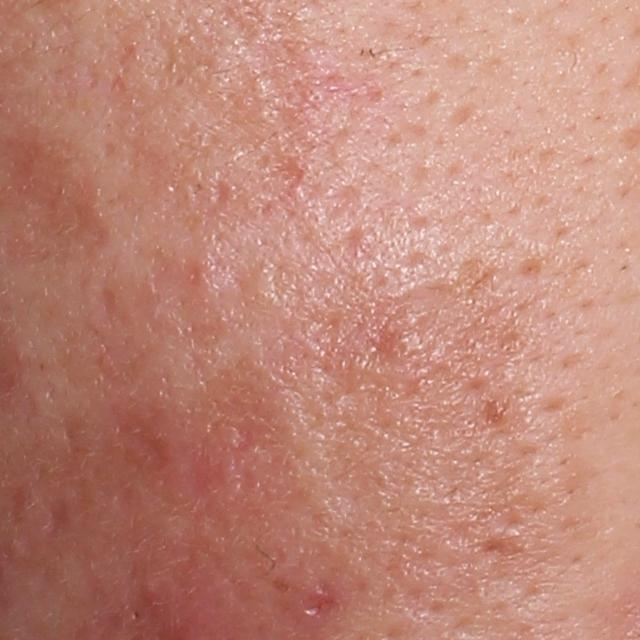atrophic_scar: (387, 277, 458, 328), (318, 183, 363, 227), (296, 573, 337, 618), (471, 535, 523, 556)
